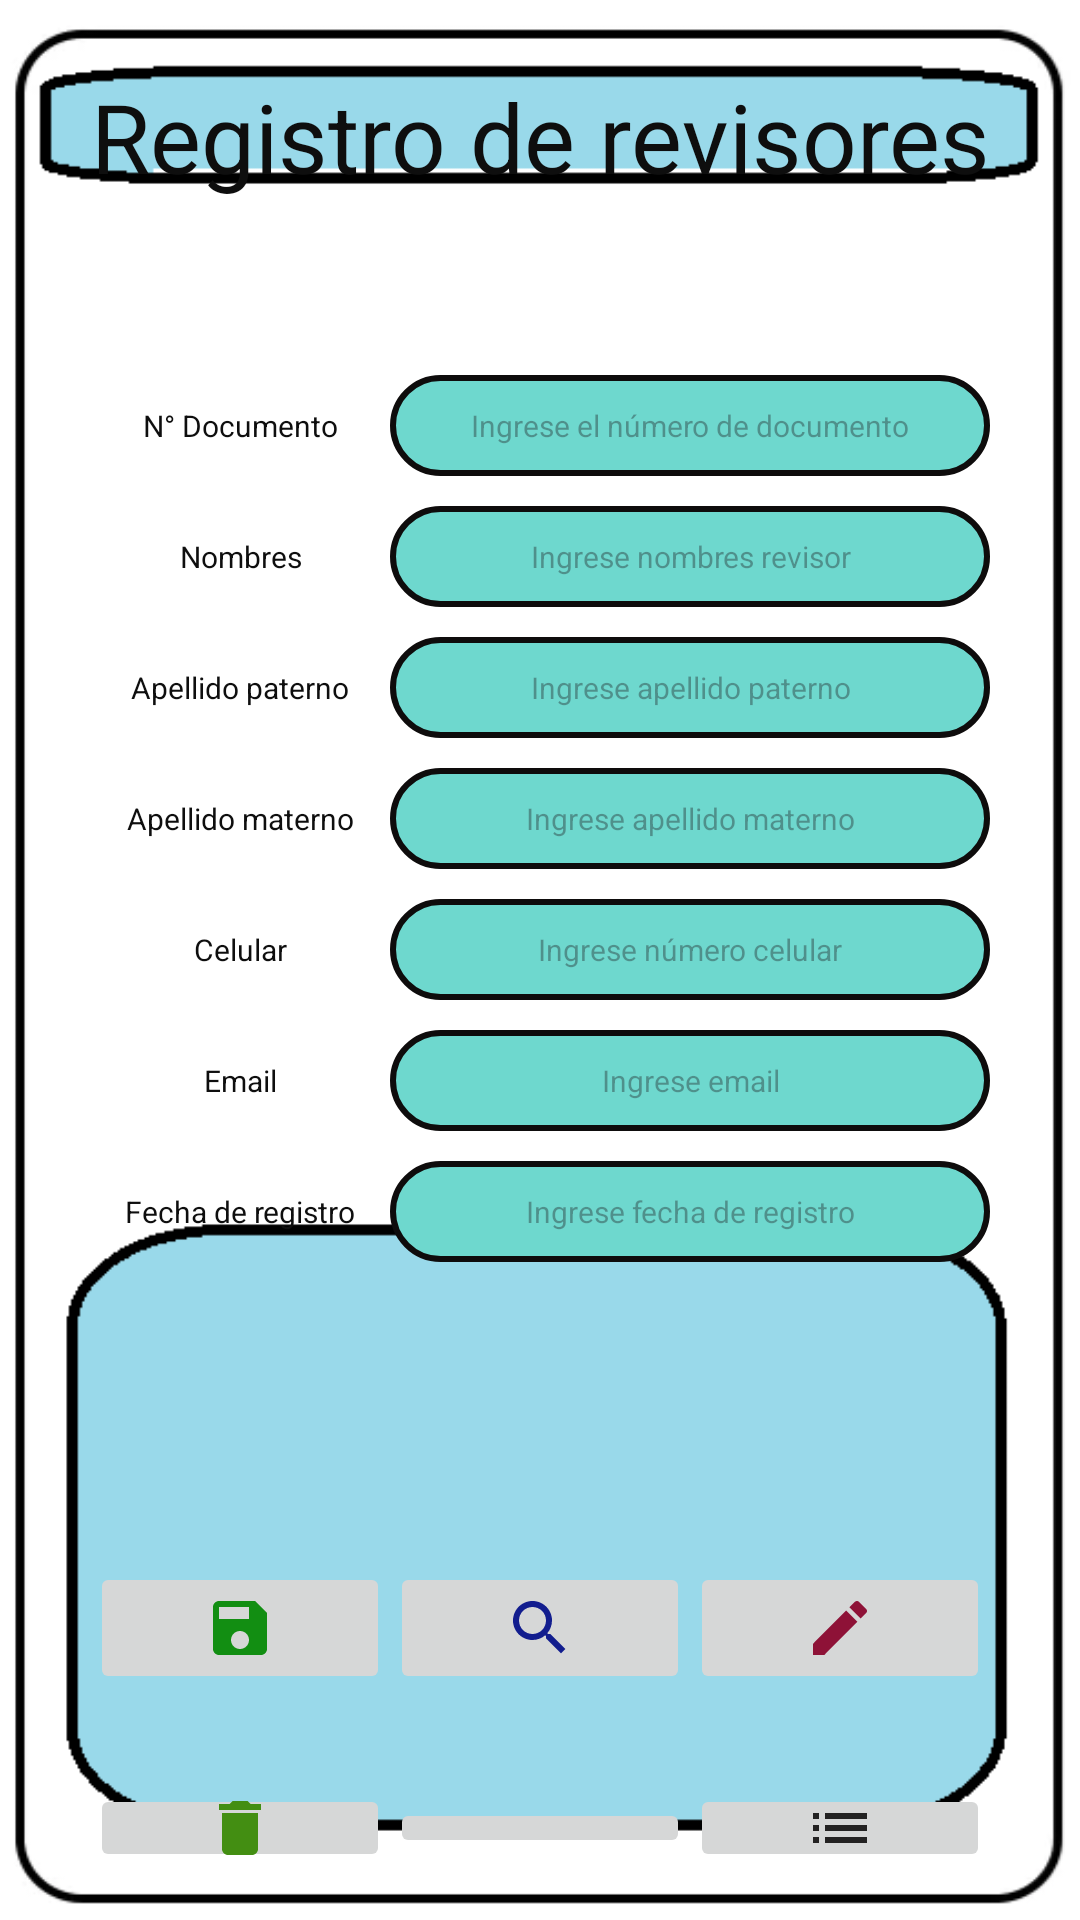

Where icons sit on this 1080×1920 app screen, as (x1, y1, x2, y2):
edit: (702, 1580, 978, 1676)
save: (102, 1580, 378, 1676)
search: (402, 1580, 678, 1676)
